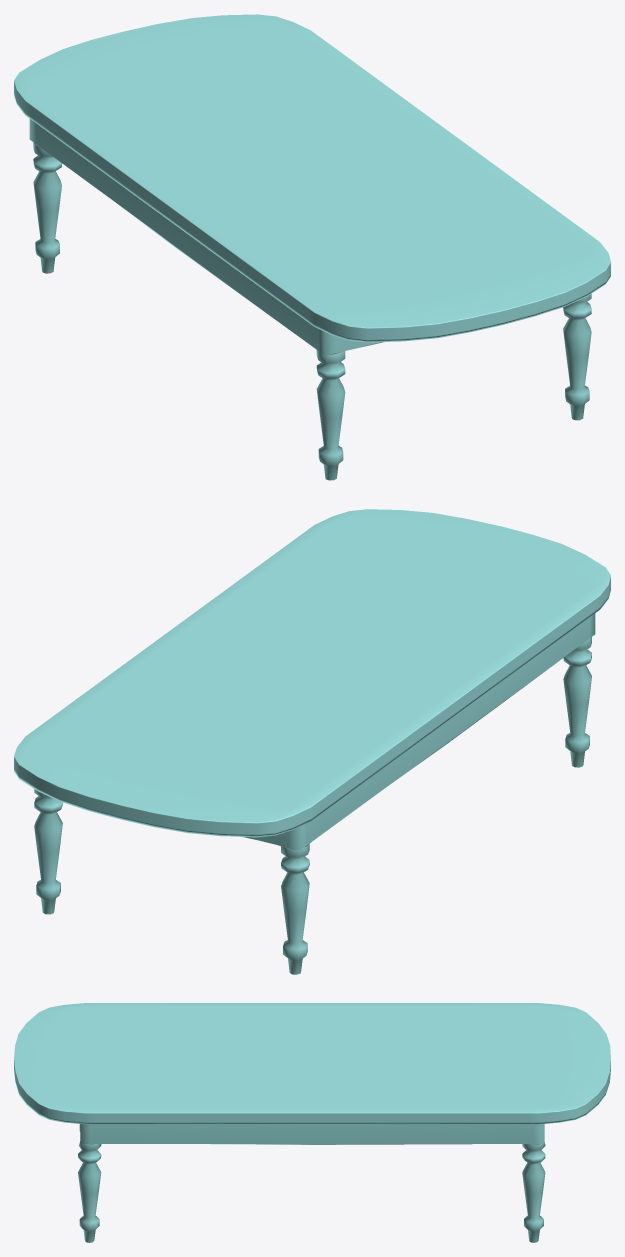
Rendered from FYP_asset_diningRoom_table.fbx.
3 renders of one model, top to bottom at view 1: azimuth 30°, elevation 25°; view 2: azimuth 150°, elevation 25°; view 3: azimuth 270°, elevation 25°, orthographic. The views are drawn at different scales.
Parts seen in each view (by area): view 1: table_OBJ; view 2: table_OBJ; view 3: table_OBJ.
Part boxes in pixels (x1,y1,x2,y2): table_OBJ: [14, 14, 610, 480]; table_OBJ: [14, 509, 610, 974]; table_OBJ: [14, 1003, 610, 1242].
Bounding box in the file's own units: 50.9 × 29.47 × 117.
